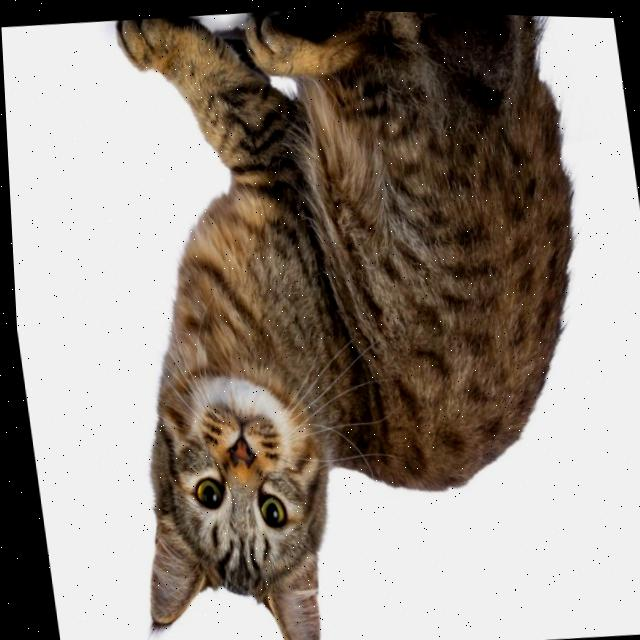American Bobtail: (61, 1, 633, 640)
